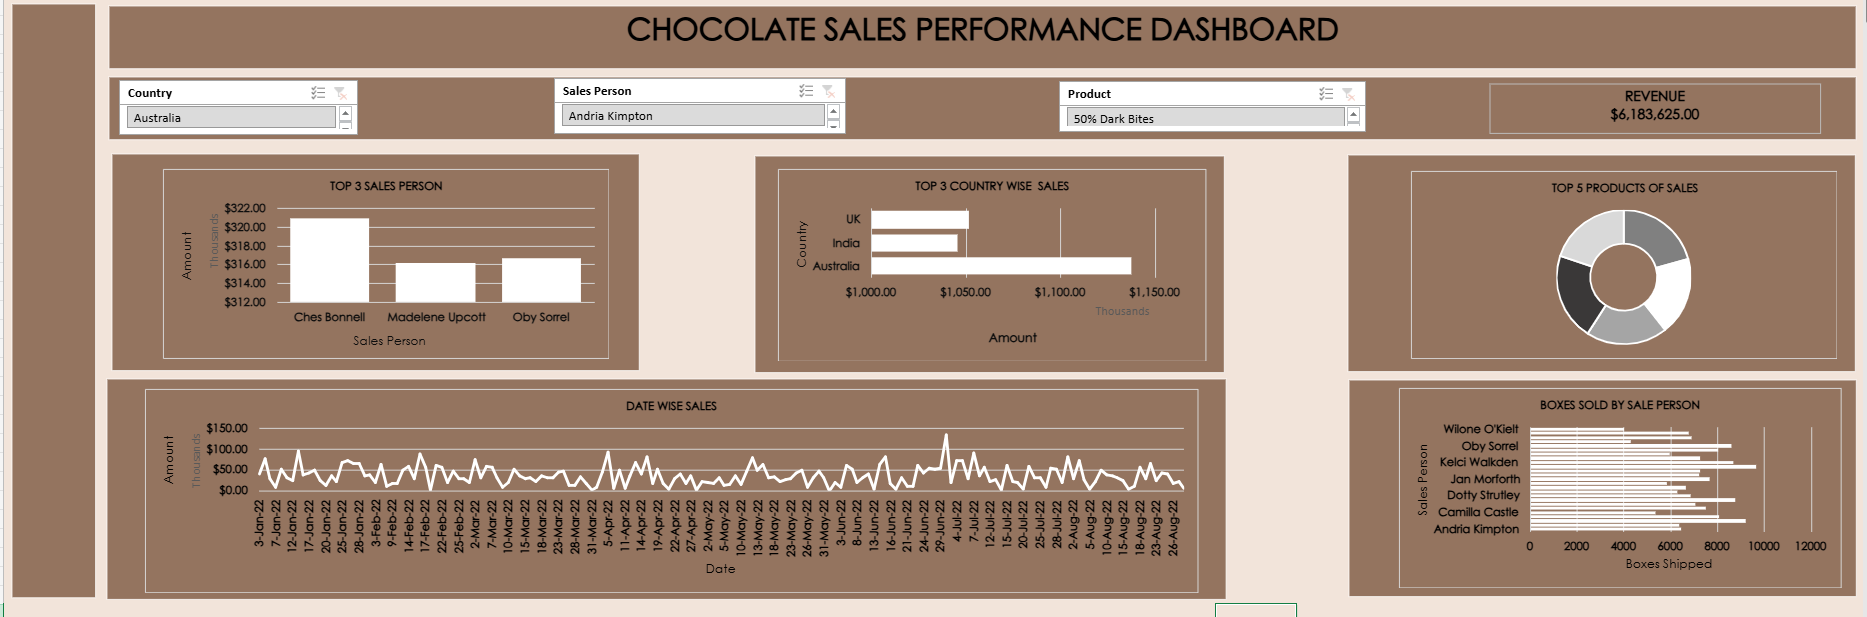

The dashboard page shown, as its layout file describes it:
{"tool":"powerbi","page":{"name":"Page 1","canvas":[1280,720],"ordinal":0},"visuals":[{"type":"textbox","box":[92.8,8,1178.2,61.9],"z":0},{"type":"textbox","box":[92.7,8.4,1178.6,61.8],"z":1},{"type":"textbox","box":[0,8.4,81,711.6],"z":2},{"type":"textbox","box":[92.6,84.7,1178.6,65.3],"z":3},{"type":"textbox","box":[92.6,173.8,382.9,245.2],"z":4},{"type":"textbox","box":[499.3,173.8,397,245.2],"z":5},{"type":"textbox","box":[918.3,173.8,352.9,245.2],"z":6},{"type":"textbox","box":[92.6,442.8,803.6,277],"z":7},{"type":"textbox","box":[918,443,353,277],"z":8},{"type":"card","title":"TOTAL REVENUE","fields":{"Values":["Sum(TABLE.Amount)"]},"box":[1064.8,90.9,190.5,51.2],"z":9},{"type":"card","title":"AVERAGE REVENUE","fields":{"Values":["TABLE.AVERAGE SALES"]},"box":[881.3,91.7,190.5,51.2],"z":10},{"type":"clusteredColumnChart","title":"TOP 3 COUNTRY IN SALES","fields":{"Category":["TABLE.Country"],"Y":["Sum(TABLE.Amount)"]},"box":[102.8,183.6,363.1,224.5],"z":11},{"type":"clusteredColumnChart","title":"TOP 3 SALEPERSON IN SALES","fields":{"Category":["TABLE.Sales Person"],"Y":["Sum(TABLE.Amount)"]},"box":[517.8,183.6,363.1,224.5],"z":12},{"type":"clusteredColumnChart","title":"TOP 5 PRODUCT IN SALES","fields":{"Category":["TABLE.Product"],"Y":["Sum(TABLE.Amount)"]},"box":[916.9,183.6,363.1,224.5],"z":13},{"type":"lineChart","title":"MONTHLY SALES TREND","fields":{"Category":["TABLE.Month Name"],"Y":["Sum(TABLE.Amount)"]},"box":[112.7,468.9,768.2,224.5],"z":14},{"type":"clusteredColumnChart","title":"TOP  3 BOX SHIPPED BY SALES PERSON","fields":{"Category":["TABLE.Sales Person"],"Y":["Sum(TABLE.Boxes Shipped)"]},"box":[916.9,468.9,363.1,224.5],"z":15},{"type":"slicer","fields":{"Values":["TABLE.Country"]},"box":[102.3,88.2,240.8,55.6],"z":16},{"type":"slicer","fields":{"Values":["TABLE.Product"]},"box":[354.6,90.9,232.9,55.6],"z":17},{"type":"slicer","fields":{"Values":["TABLE.Sales Person"]},"box":[617.5,89.1,232.9,55.6],"z":18}]}

Visuals, with their boxes in screenshot pixels (x1, y1, x2, y2):
textbox: [left=95, top=11, right=1056, bottom=62]
textbox: [left=95, top=12, right=1057, bottom=62]
textbox: [left=19, top=12, right=86, bottom=592]
textbox: [left=95, top=74, right=1056, bottom=127]
textbox: [left=95, top=147, right=407, bottom=347]
textbox: [left=427, top=147, right=751, bottom=347]
textbox: [left=769, top=147, right=1056, bottom=347]
textbox: [left=95, top=366, right=751, bottom=592]
textbox: [left=768, top=366, right=1056, bottom=592]
"TOTAL REVENUE" card: [left=888, top=79, right=1043, bottom=121]
"AVERAGE REVENUE" card: [left=738, top=80, right=894, bottom=121]
"TOP 3 COUNTRY IN SALES" clusteredColumnChart: [left=103, top=155, right=400, bottom=338]
"TOP 3 SALEPERSON IN SALES" clusteredColumnChart: [left=442, top=155, right=738, bottom=338]
"TOP 5 PRODUCT IN SALES" clusteredColumnChart: [left=767, top=155, right=1064, bottom=338]
"MONTHLY SALES TREND" lineChart: [left=111, top=387, right=738, bottom=571]
"TOP  3 BOX SHIPPED BY SALES PERSON" clusteredColumnChart: [left=767, top=387, right=1064, bottom=571]
slicer - TABLE.Country: [left=103, top=77, right=299, bottom=122]
slicer - TABLE.Product: [left=309, top=79, right=499, bottom=124]
slicer - TABLE.Sales Person: [left=523, top=78, right=713, bottom=123]
